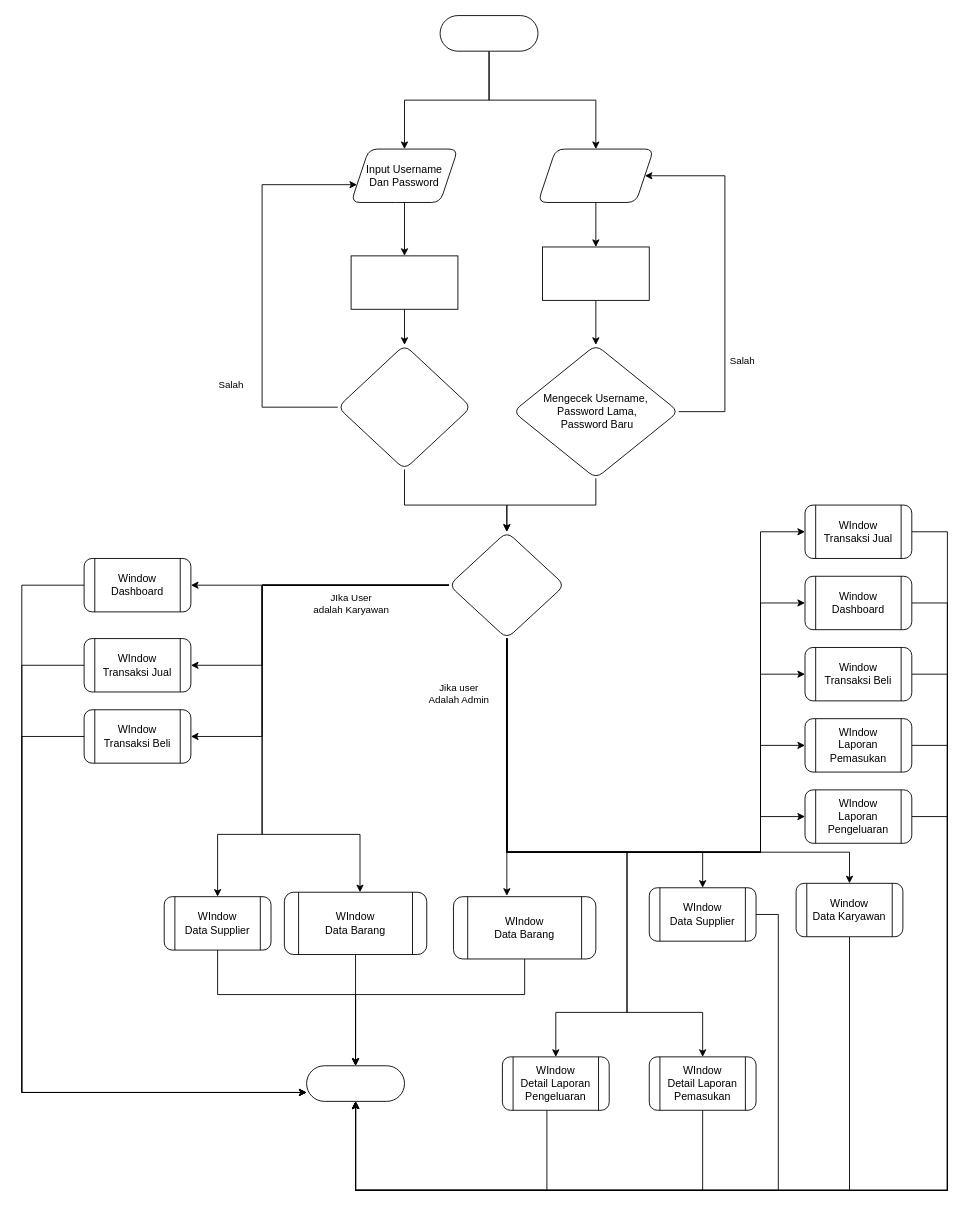
Image size: 970x1213. Some labels were removed from this diagram. Here are the shapes that lost their labels. From the top down, the box of each, then its label:
(439, 15, 538, 51): Mulai
(537, 148, 654, 202): Input Username Password Lama, Password Baru
(350, 255, 458, 309): Login
(542, 246, 649, 300): Lupa Password
(337, 344, 471, 469): Mengecek Username dan Password
(448, 531, 565, 639): Mengecek Level User
(306, 1065, 405, 1101): Akhir
